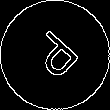P_SE: (24, 24, 86, 86)
